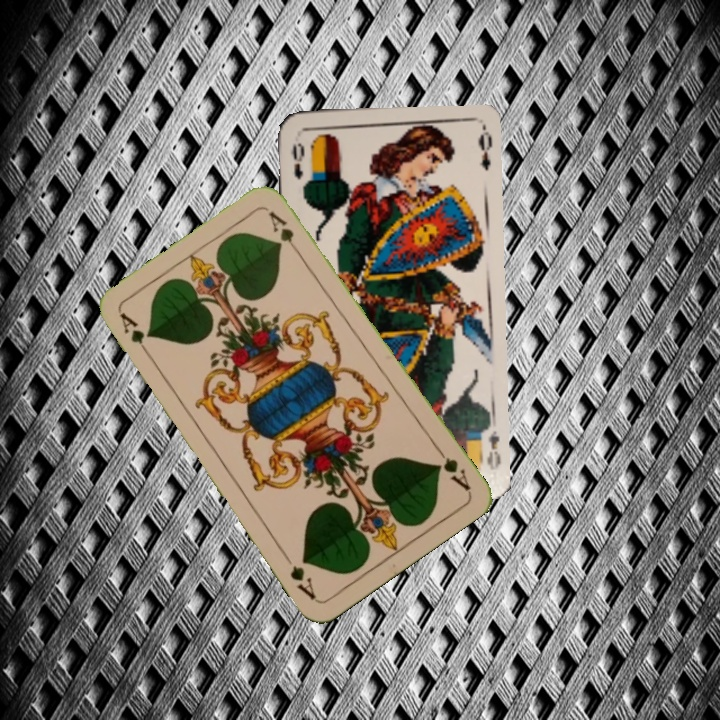EO: (483, 427, 503, 473), (288, 139, 307, 182)
GA: (431, 442, 473, 494), (116, 309, 155, 362)
